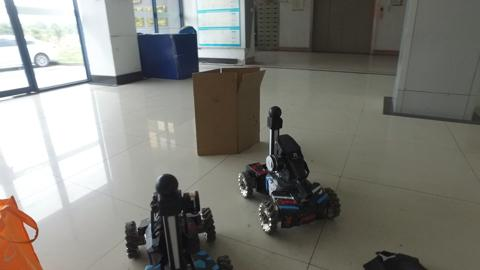box: (191, 60, 264, 155)
chariot: (234, 104, 341, 229), (124, 166, 232, 270)
